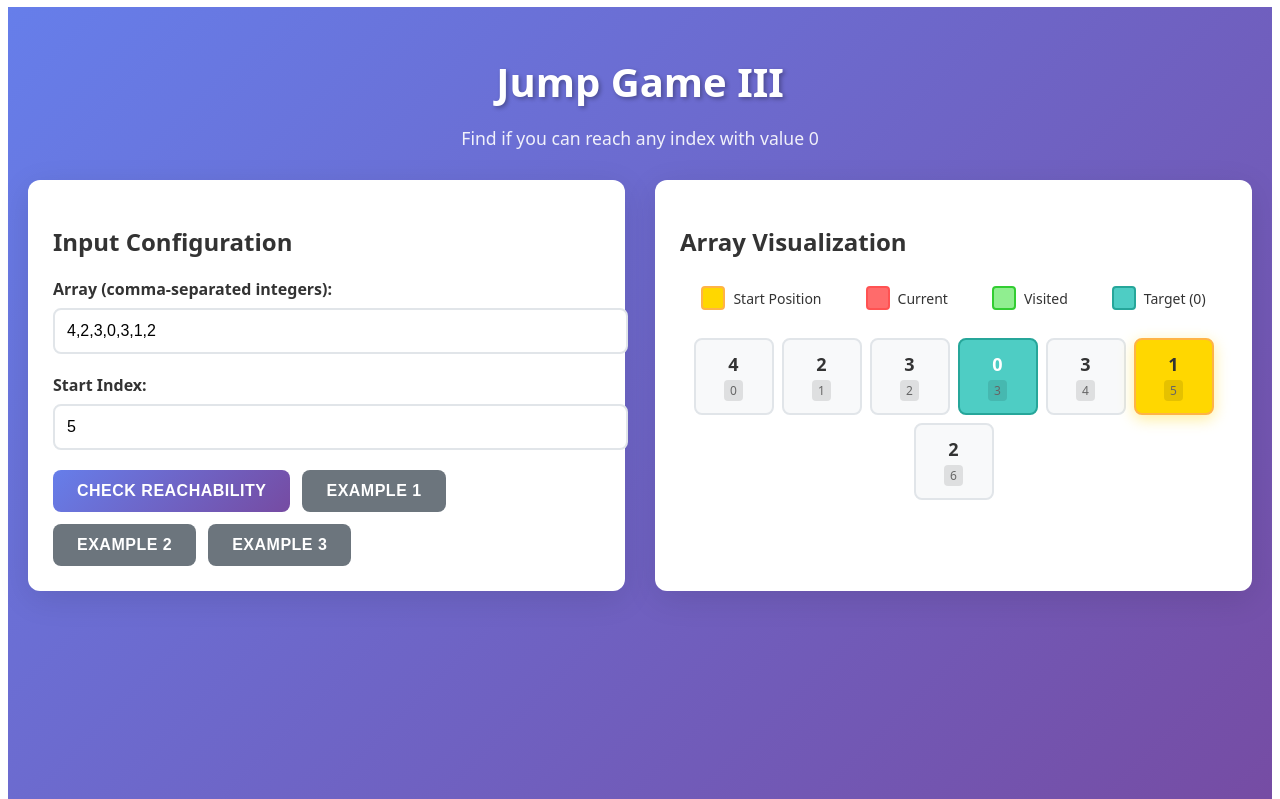
Test case: JumpGame Component › shows path section when result is true
The image size is (1280, 799).
What coordinates should you click on to do the following:
click the button with test id "calculate-btn"
I would click on:
 (172, 491)
Its box is [53, 470, 290, 512].
(page scrolled)
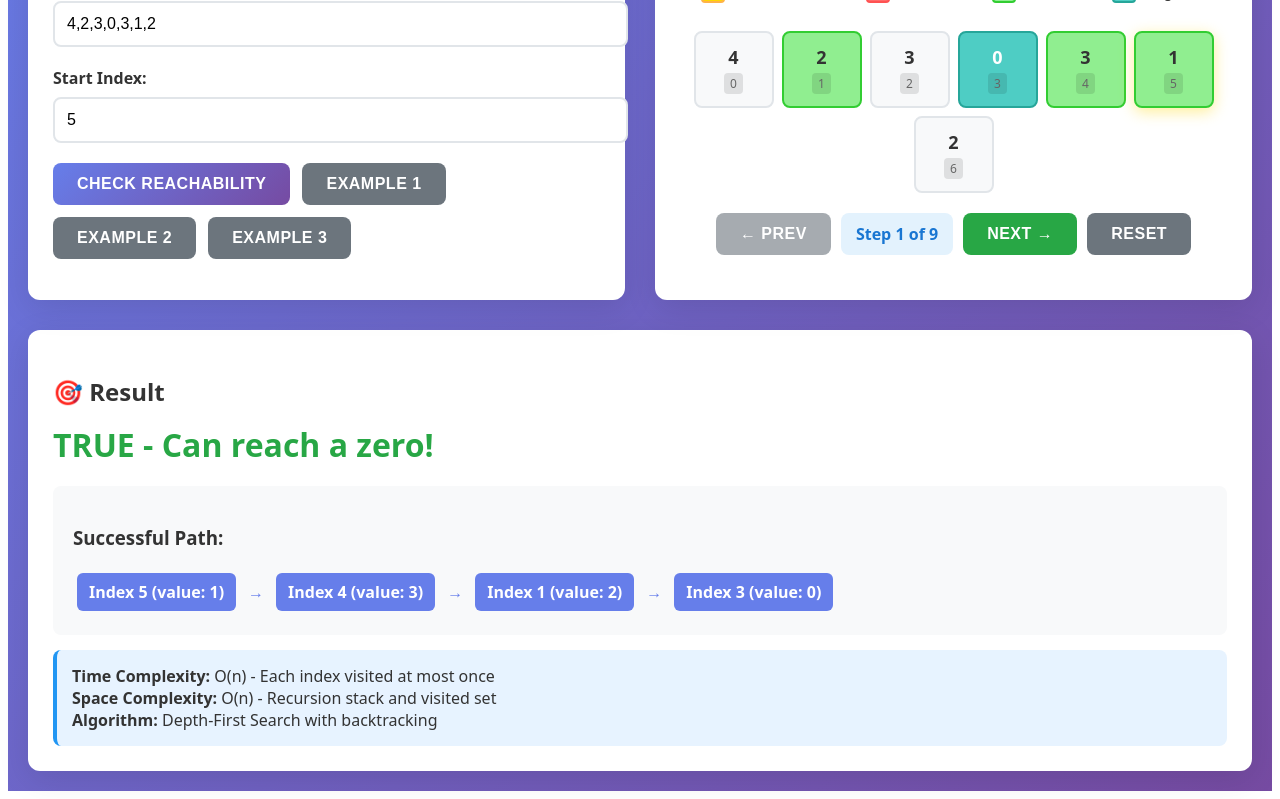
Expected: the element with test id "path-section" is shown, [53, 486, 1227, 635]
